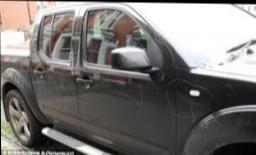Door: (97, 67, 149, 109)
Fender: (175, 78, 236, 122)
